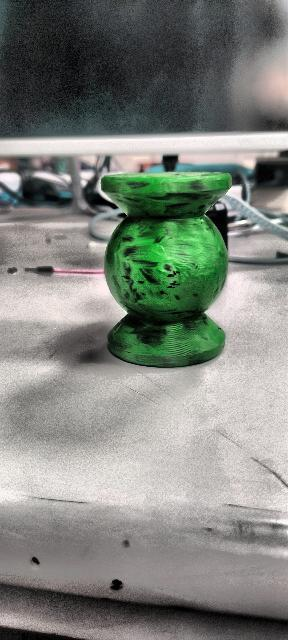blue: (100, 170, 232, 368)
